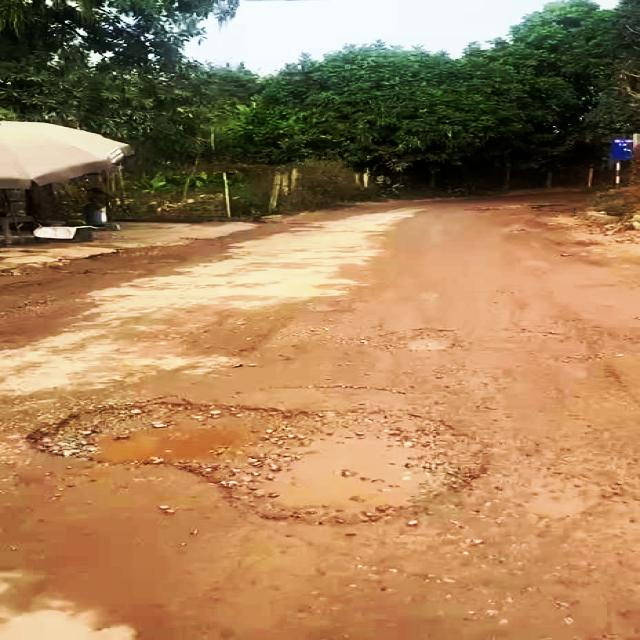pothole: (28, 399, 498, 527), (516, 471, 621, 528), (357, 328, 468, 356)
